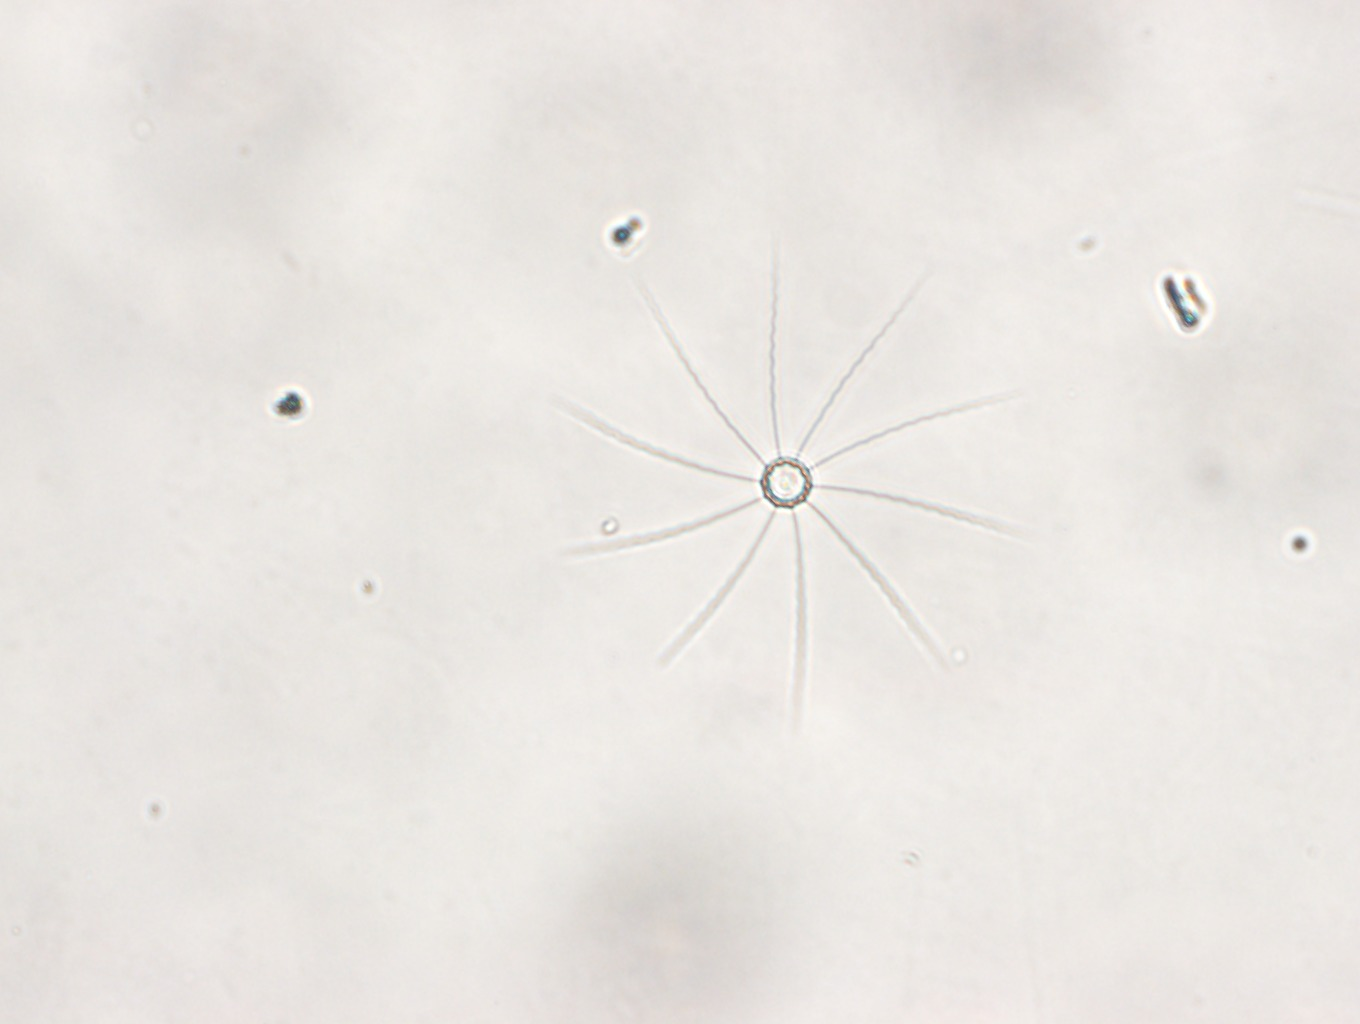bacteriastrum: (544, 239, 1032, 719)
